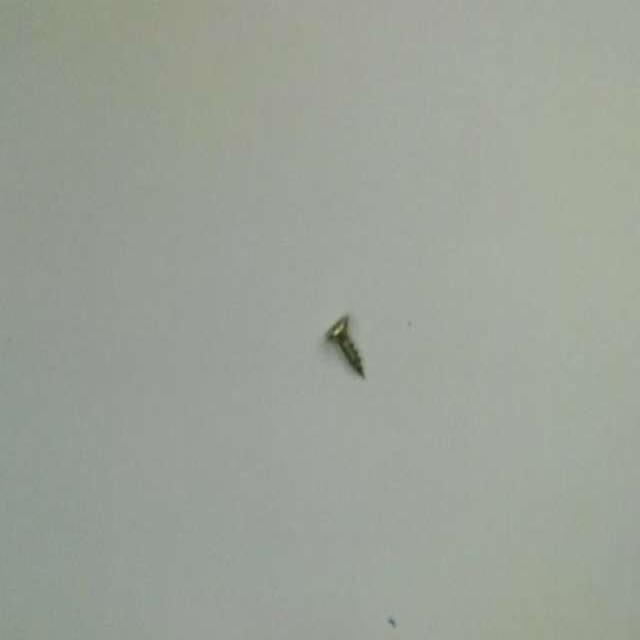Parafuso: (327, 315, 363, 376)
